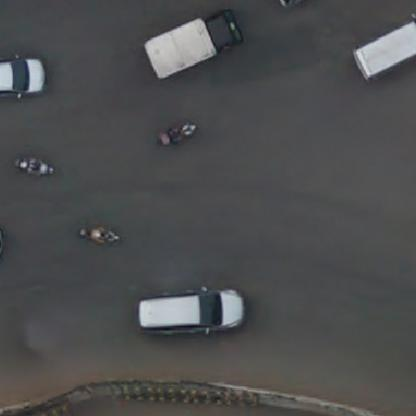car: (138, 287, 246, 335), (0, 55, 49, 101)
motorcycle: (158, 116, 198, 147), (12, 155, 56, 180), (78, 225, 123, 247)
truck: (136, 6, 248, 75), (347, 20, 415, 79)
